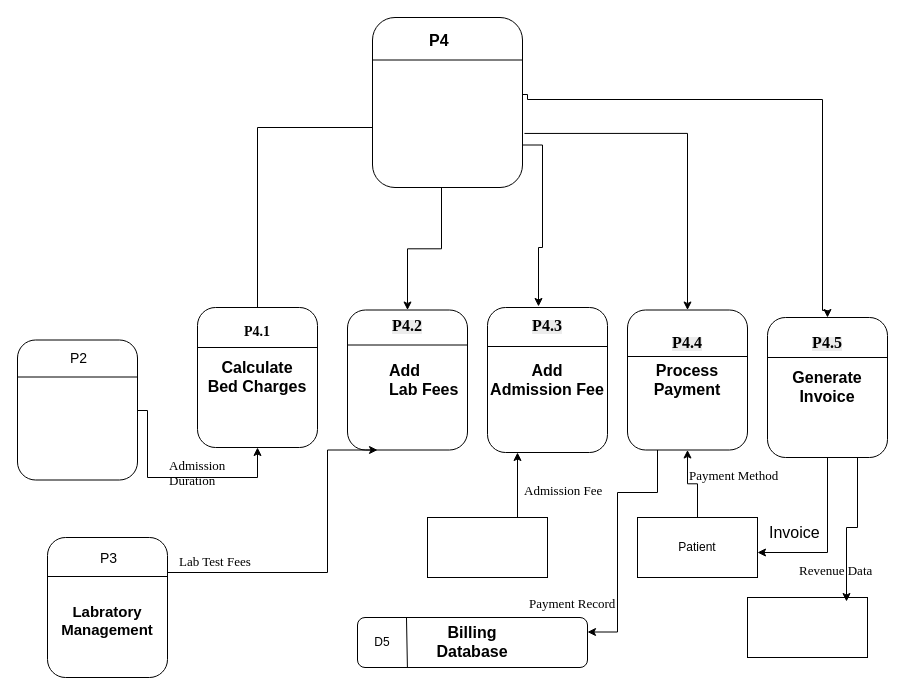
This 915x695 diagram has some shape labels left out. The box of each missing label's shape, as (x1, y1, x2, y2) in pixels:
Admin: (746, 596, 868, 658)
Admission: (426, 516, 548, 578)
Appointment & Admission Management: (16, 339, 138, 480)
Billing & Payment Management: (372, 16, 522, 188)
